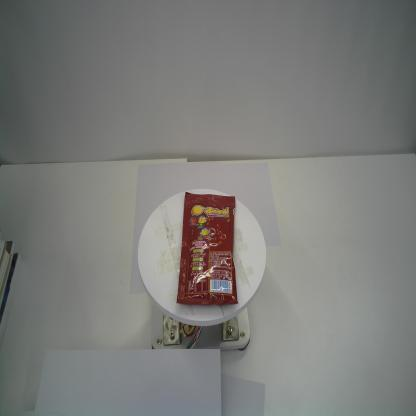Candy: (174, 189, 240, 305)
